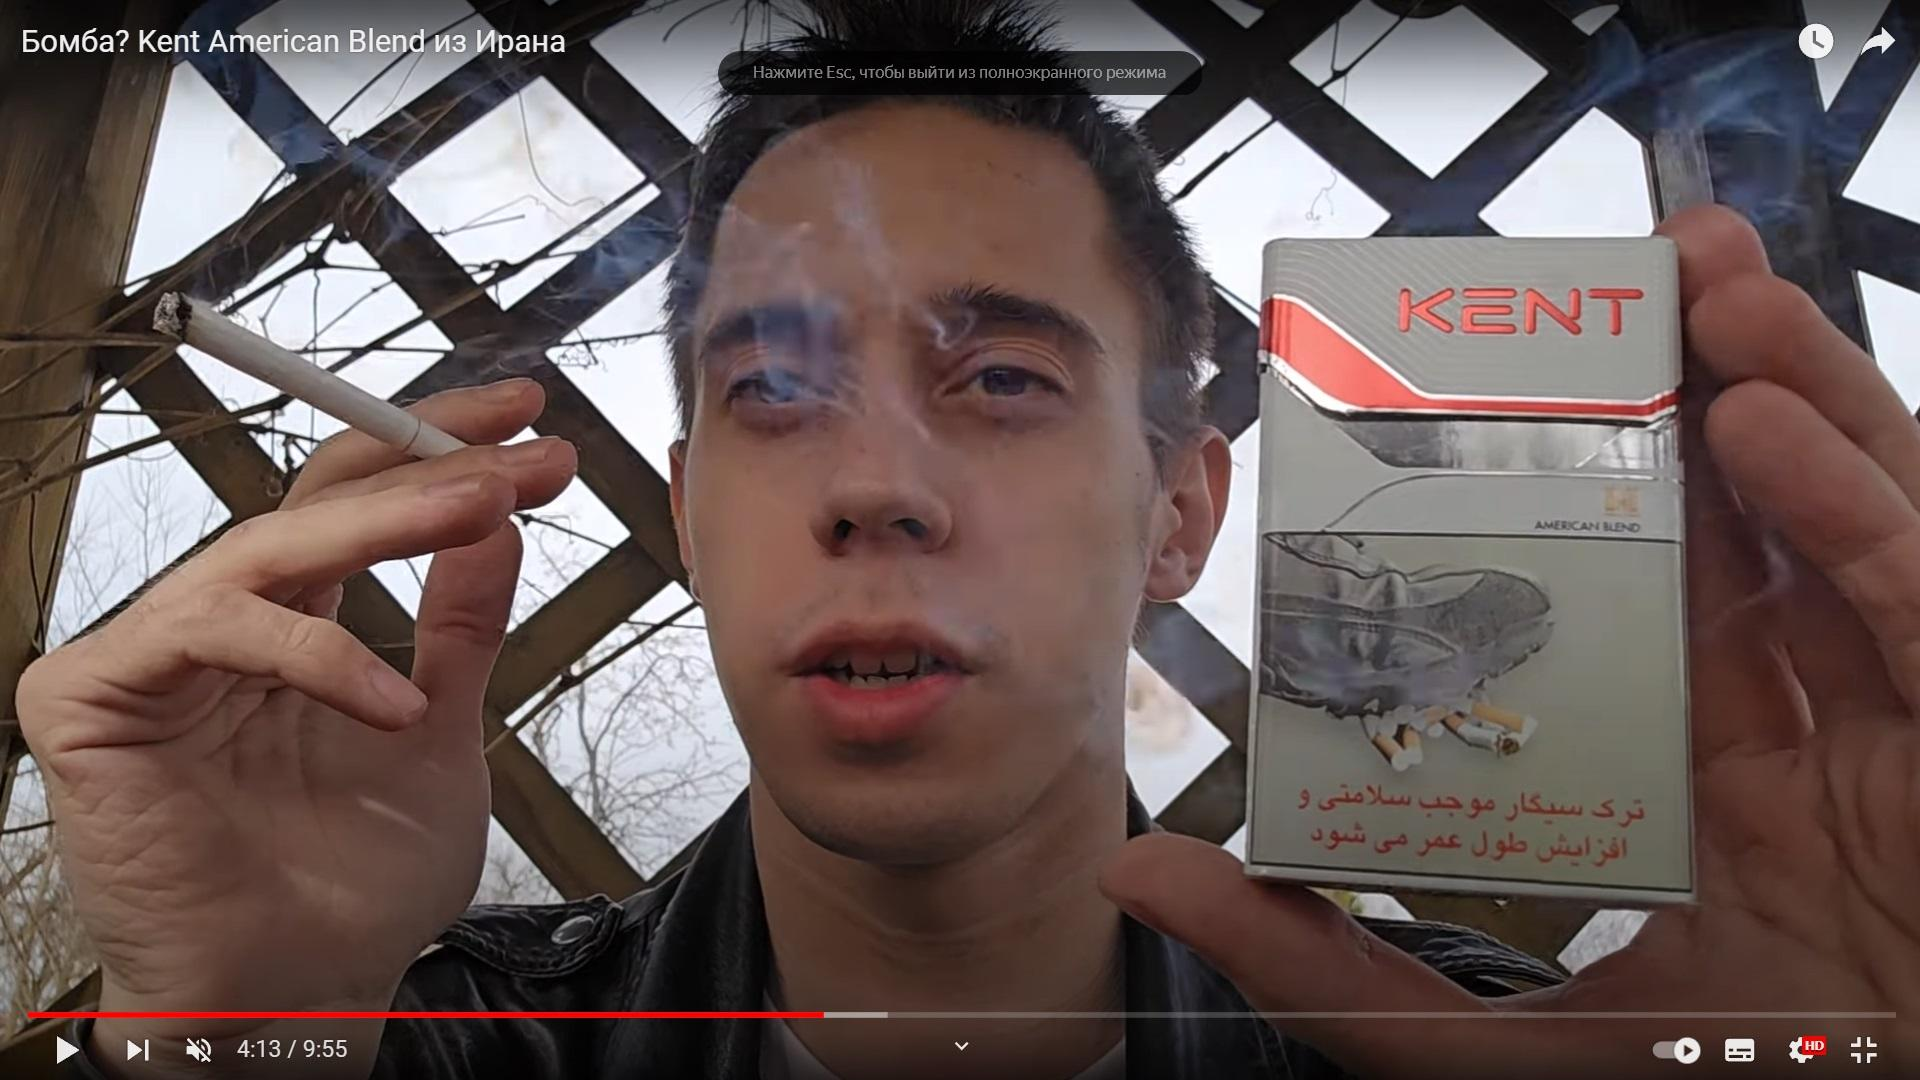cigarette: (152, 291, 472, 460)
